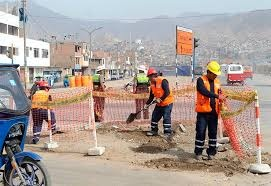red: (37, 81, 50, 94), (146, 67, 158, 81)
yellow: (205, 59, 220, 81)
